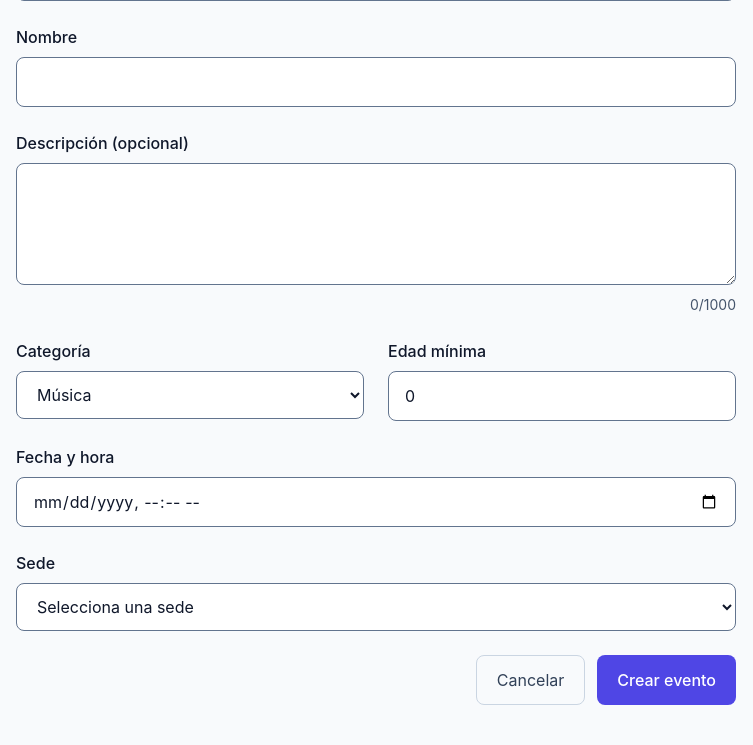
AdminCrearEvento › rechaza campos requeridos vacíos sin enviar la creación
The image size is (753, 745).
(page scrolled)
Click the button "Crear evento" at (667, 680), box left=597, top=655, right=736, bottom=705
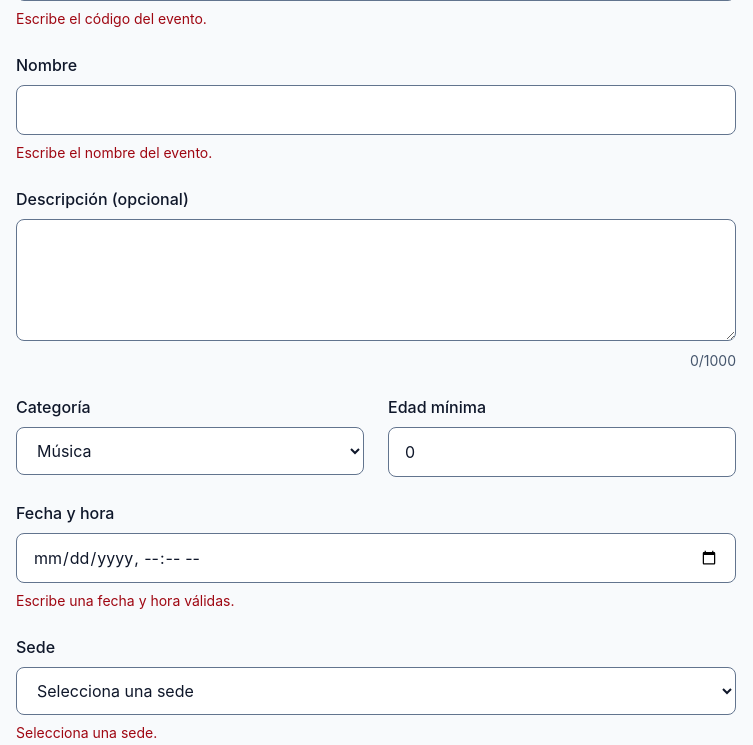
Now the text "Escribe el código del evento." is shown, box left=16, top=10, right=207, bottom=27
Now the text "Escribe el nombre del evento." is shown, box left=16, top=144, right=212, bottom=161
